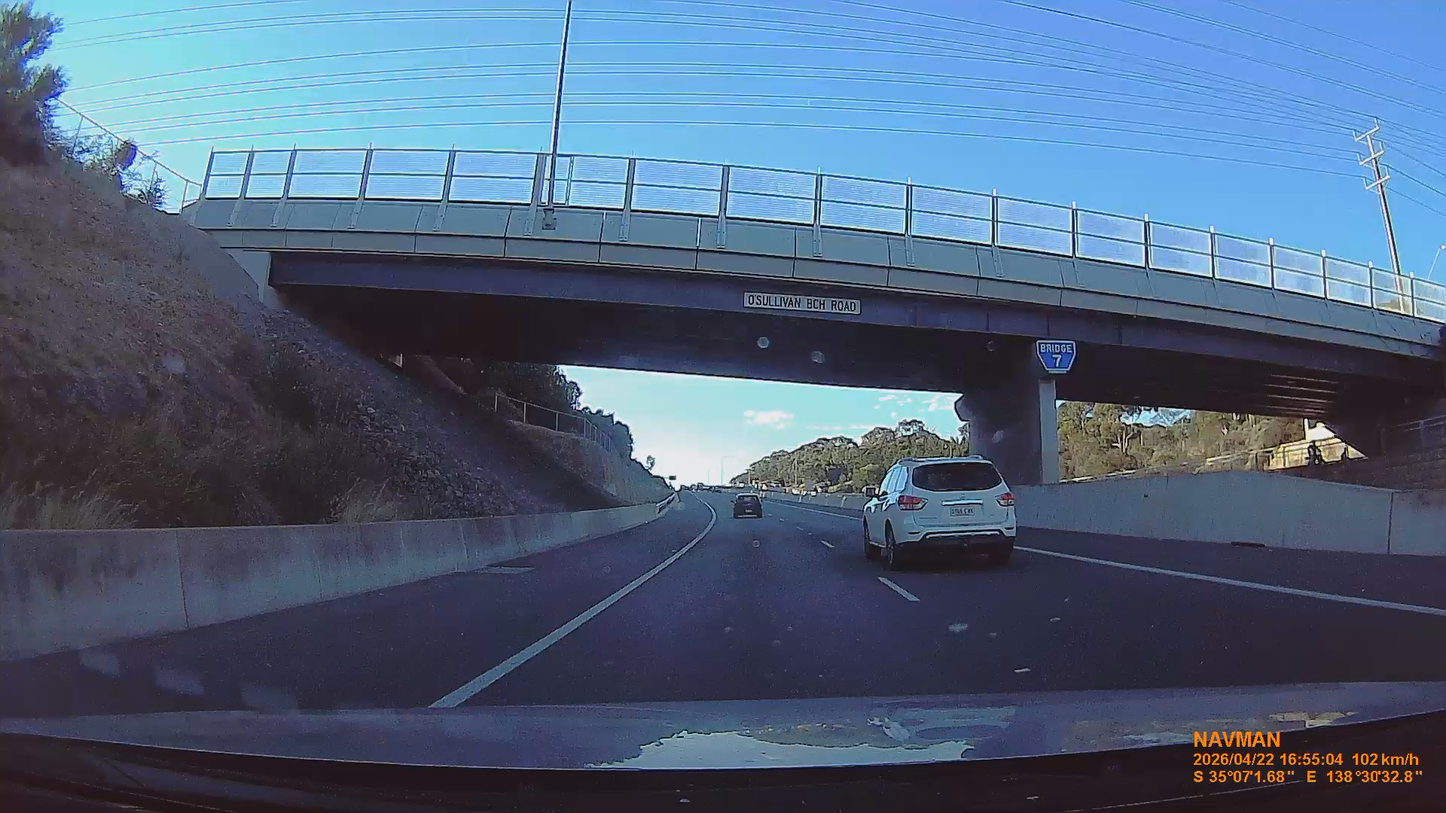road barriers: (0, 498, 676, 659), (1013, 472, 1445, 555)
